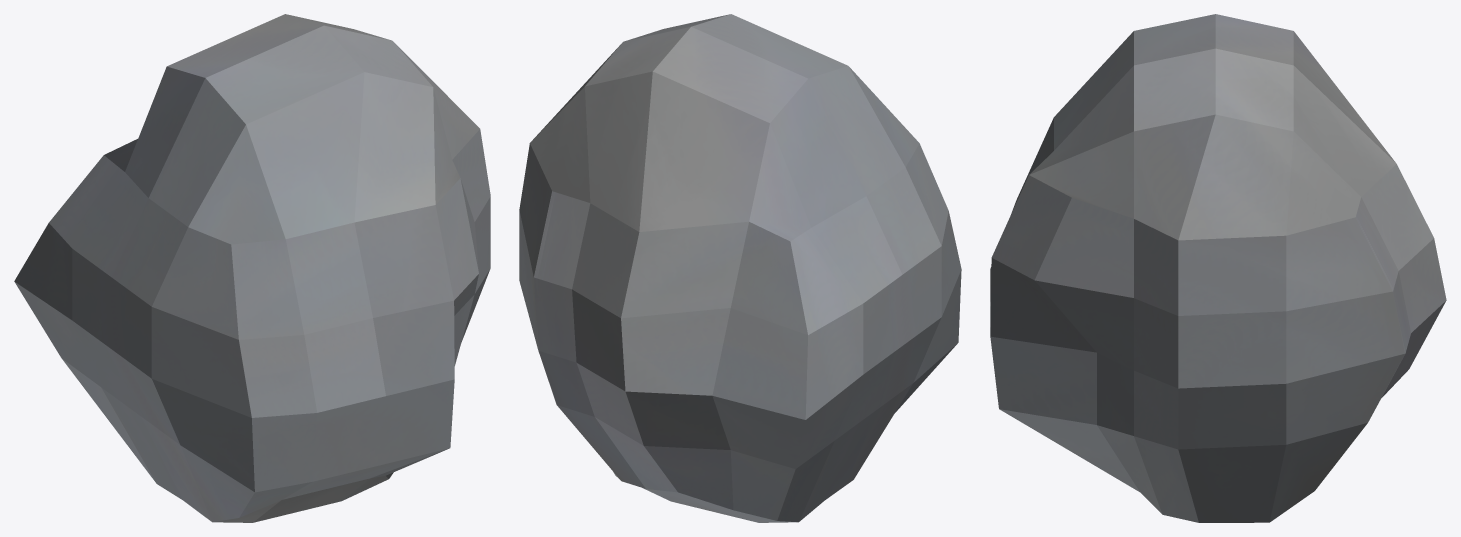
Rendered from Small_Boulder_1.fbx.
3 views of the same model, side by side, from view 1: azimuth 30°, elevation 25°; view 2: azimuth 150°, elevation 25°; view 3: azimuth 270°, elevation 25° (orthographic).
Parts seen in each view (by area): view 1: Bounder; view 2: Bounder; view 3: Bounder.
Part boxes in pixels (x1,y1,x2,y2): Bounder: (14, 14, 490, 522); Bounder: (519, 14, 961, 522); Bounder: (990, 14, 1446, 522).
Size of the model in its own units: 263 by 285 by 317.
Materials: 1 (1 with a texture image).
